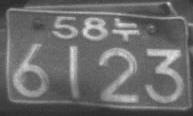1: (58, 45, 91, 99)
2: (98, 46, 138, 102)
3: (145, 47, 184, 104)
5: (51, 15, 78, 39)
6: (12, 43, 50, 98)
8: (82, 16, 108, 42)
누: (111, 17, 139, 42)
